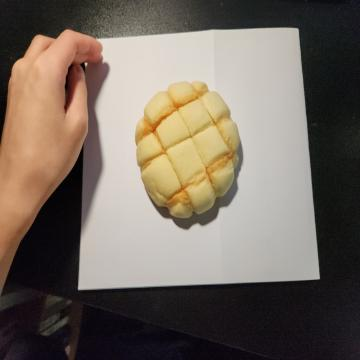melon_bread: (133, 78, 240, 221)
